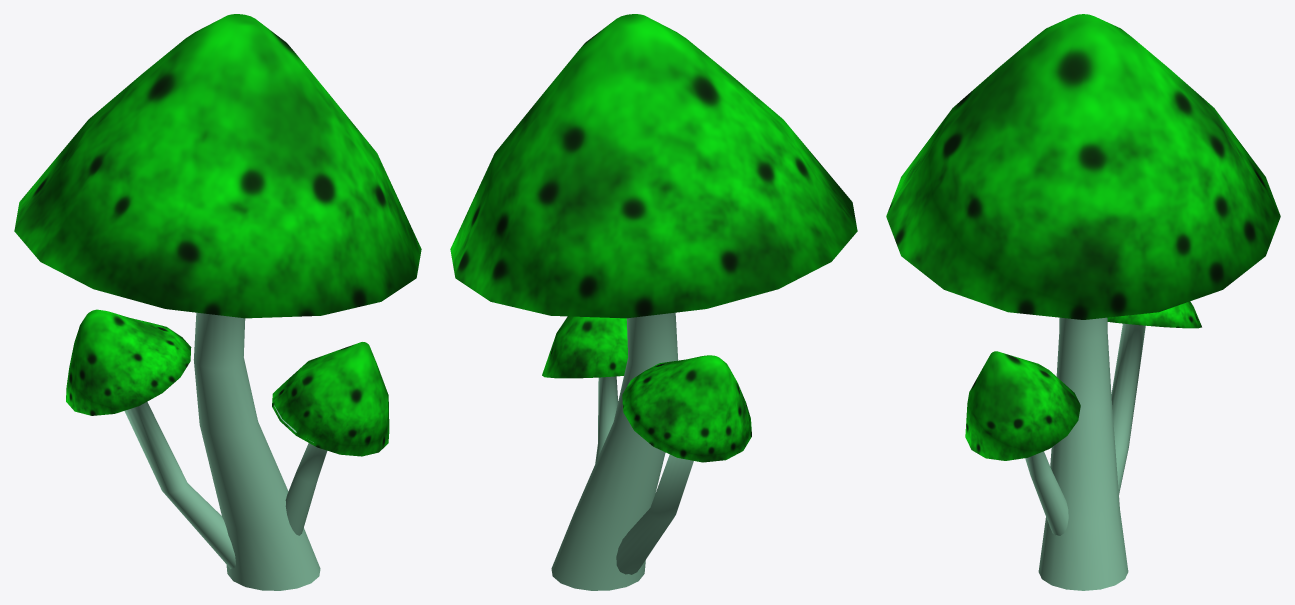
File: Mushroom2.fbx
3 views of the same model, side by side, from view 1: azimuth 30°, elevation 25°; view 2: azimuth 150°, elevation 25°; view 3: azimuth 270°, elevation 25° (orthographic). The views are drawn at different scales.
Parts seen in each view (by area): view 1: Шляпка 2, Ножка 2; view 2: Шляпка 2, Ножка 2; view 3: Шляпка 2, Ножка 2.
Part boxes in pixels (x1,y1,x2,y2): Шляпка 2: [14, 14, 421, 456]; Ножка 2: [124, 312, 327, 590]; Шляпка 2: [450, 14, 857, 462]; Ножка 2: [551, 312, 693, 590]; Шляпка 2: [886, 14, 1280, 460]; Ножка 2: [1025, 317, 1145, 590].
Size of the model in its own units: 240 by 362 by 241.
